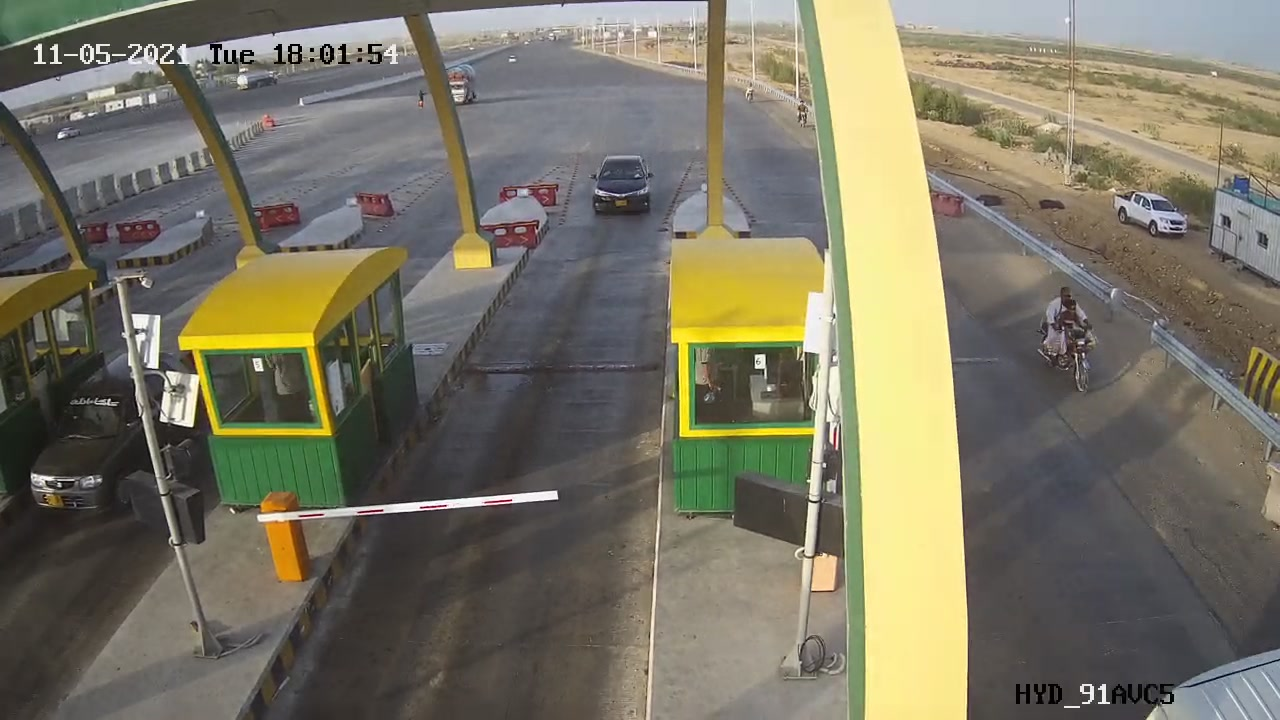F1: (581, 144, 663, 226)
